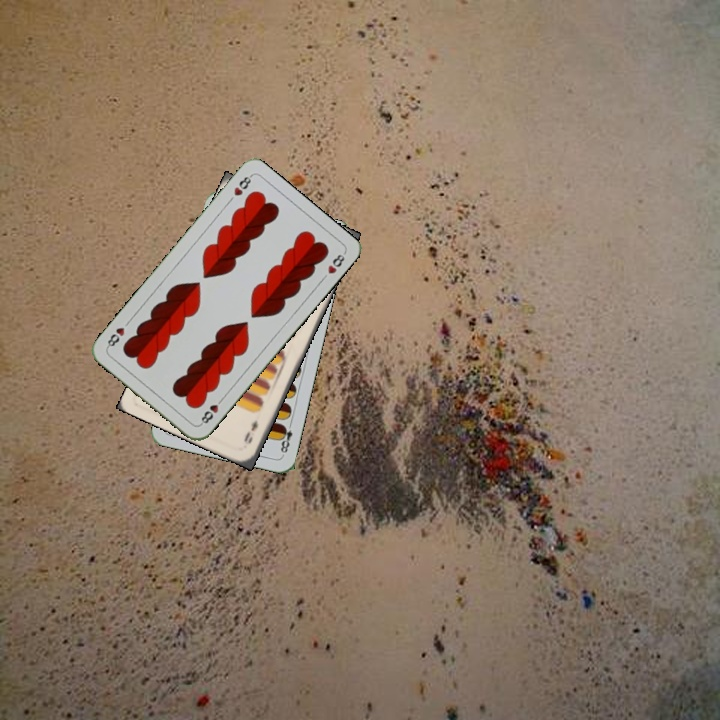E8: (276, 418, 295, 458)
E9: (240, 416, 260, 446)
H8: (196, 393, 226, 428), (230, 171, 255, 198)
